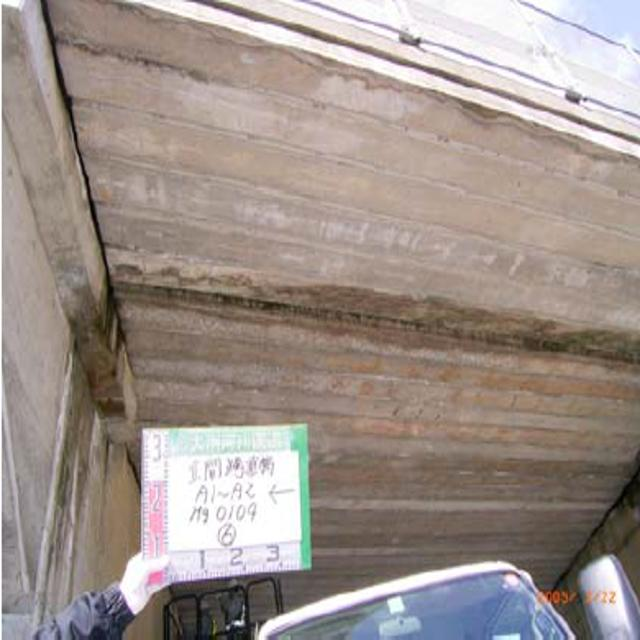leakage: (120, 260, 640, 367)
